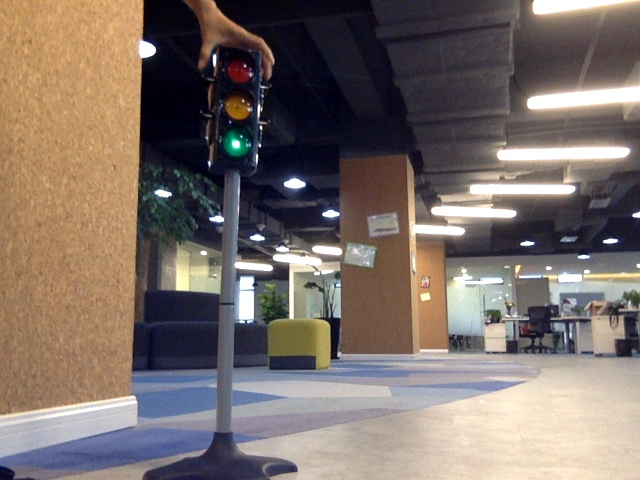green: (213, 57, 258, 163)
